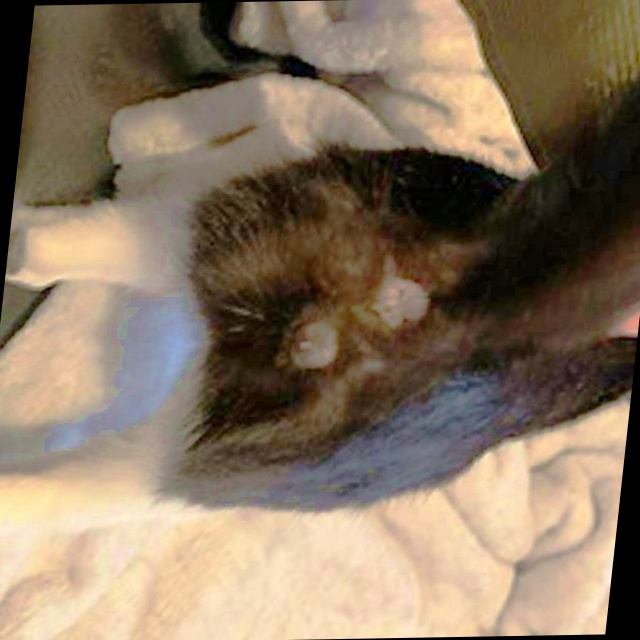lump_and_bump: (372, 283, 428, 325), (294, 326, 341, 366)
